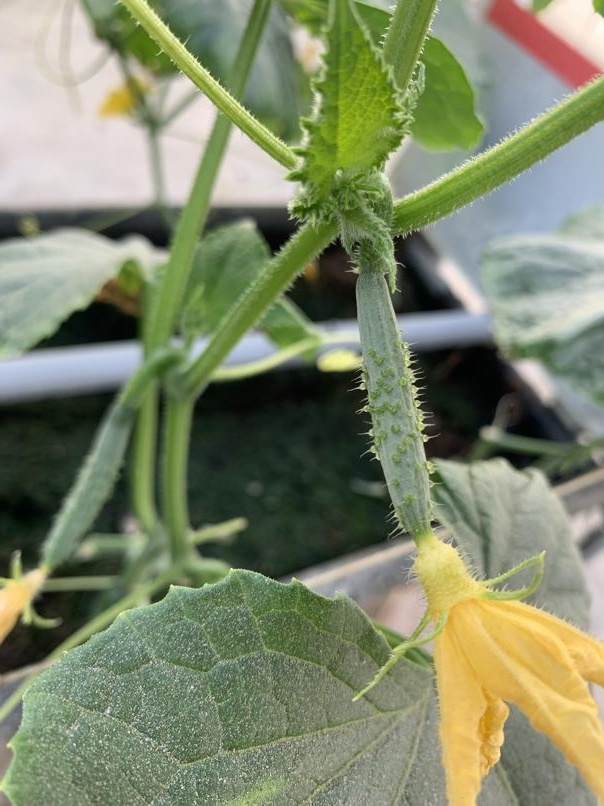bear: (346, 258, 601, 800)
